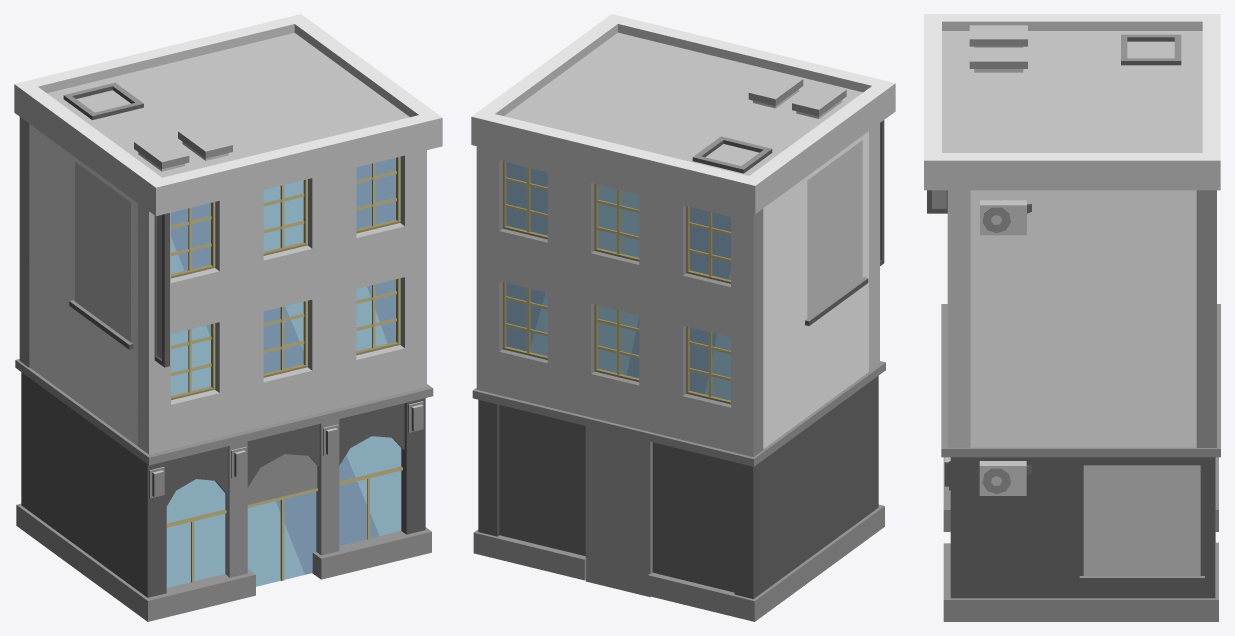
Rendered from hotel_001.fbx.
The picture shows the model from 3 angles, left to right: view 1: azimuth 30°, elevation 25°; view 2: azimuth 150°, elevation 25°; view 3: azimuth 270°, elevation 25°; orthographic projection. The views are drawn at different scales.
Visible parts, largest first — view 1: hotel_001; view 2: hotel_001; view 3: hotel_001.
Boxes of the visible parts, x1,y1,x2,y2 form: hotel_001: [14, 14, 442, 621]; hotel_001: [471, 14, 895, 621]; hotel_001: [924, 14, 1220, 621].
Bounding box in the file's own units: 610 × 887 × 511.
